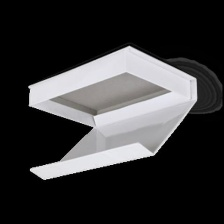book: (17, 40, 200, 188)
